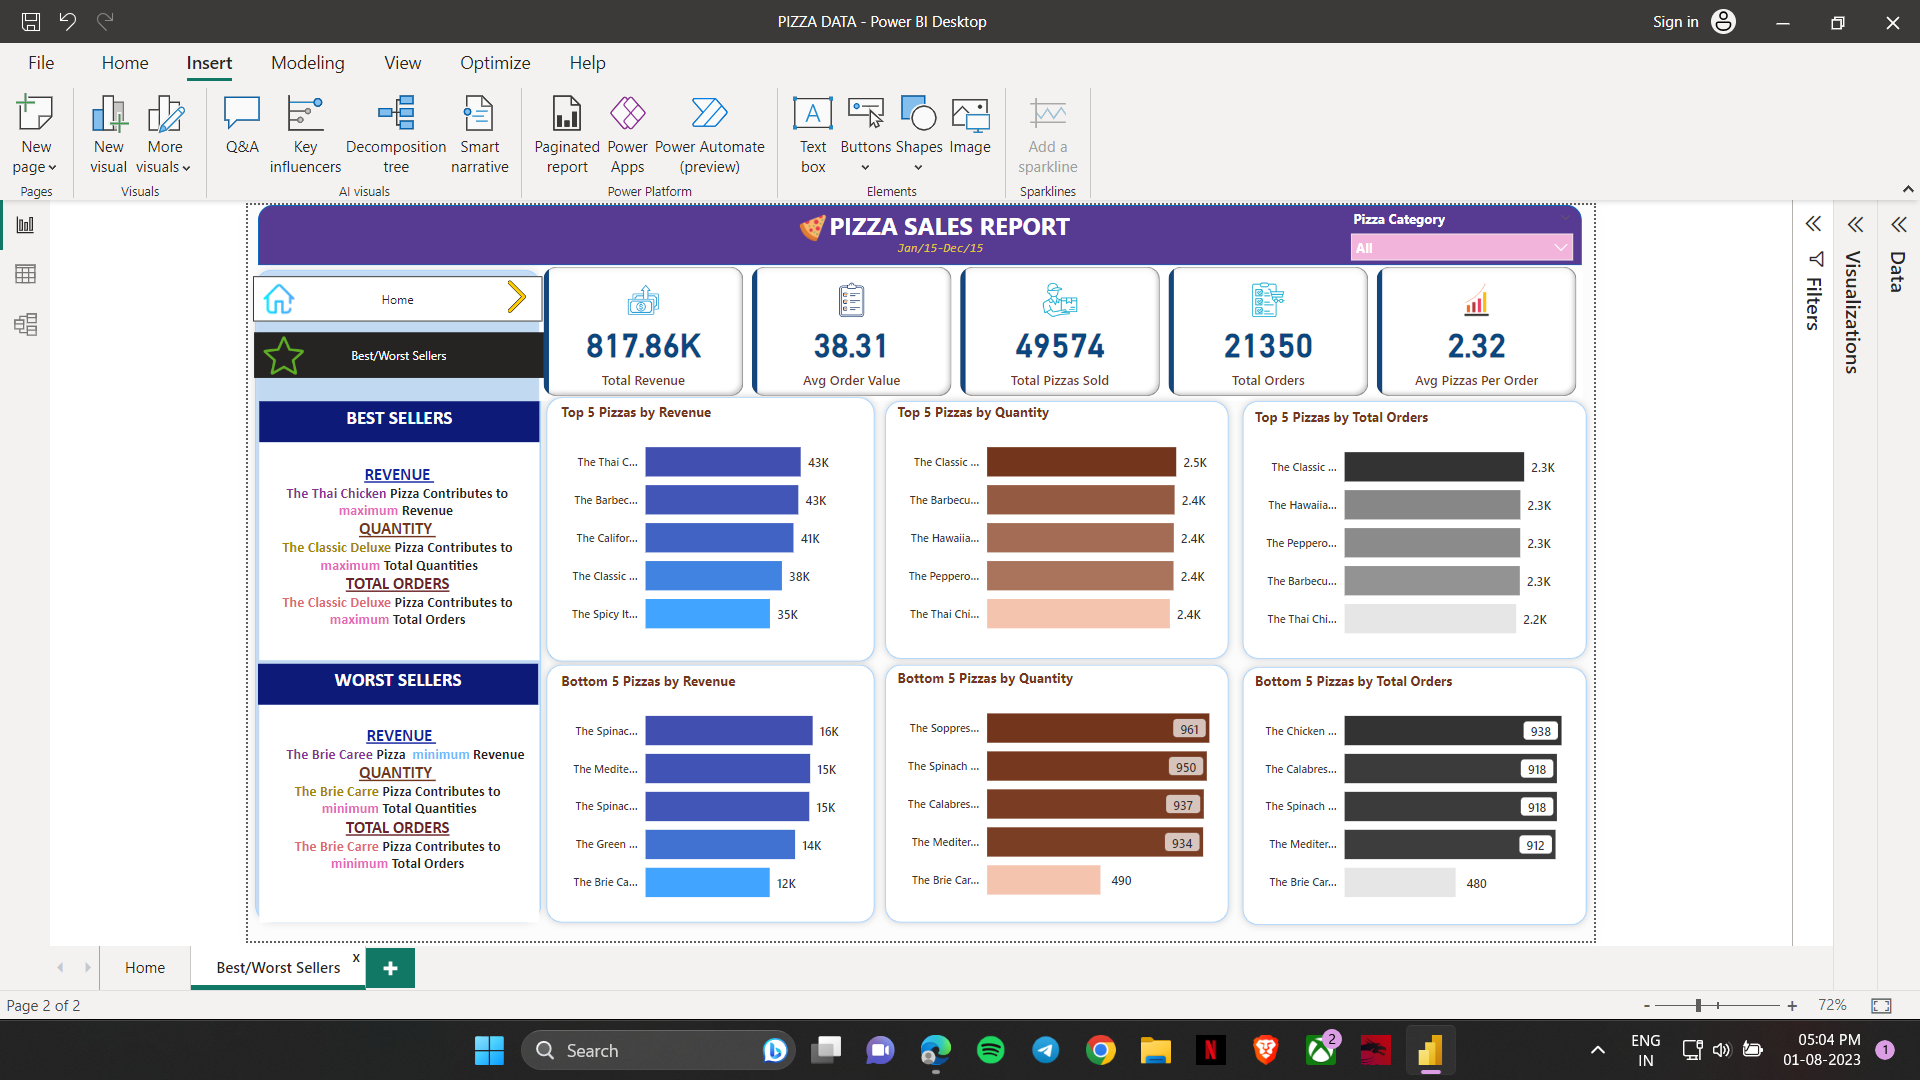

The page's visual inventory and layout, read from the dashboard file:
{"tool":"powerbi","page":{"name":"Best/Worst Sellers","canvas":[1500,820],"ordinal":1},"visuals":[{"type":"shape","box":[0,64,334.1,743.4],"z":0},{"type":"cardVisual","fields":{"Data":["pizza_sales.Total Revenue","pizza_sales.Avg Order Value","pizza_sales.Total Pizzas Sold","pizza_sales.Total Orders","pizza_sales.Avg Pizzas Per Order"]},"box":[324.4,64,1162.5,154.5],"z":1000},{"type":"shape","box":[11.1,0,1474.3,66.8],"z":2000},{"type":"textbox","box":[637.5,0,287.5,50],"z":3000},{"type":"textbox","box":[718.8,33.8,115,30],"z":4000},{"type":"image","box":[593.8,5,71.2,40],"z":5000},{"type":"shape","box":[324.4,206,381.5,310.5],"z":6000},{"type":"textbox","box":[12.5,218.6,311.9,45.9],"z":7000},{"type":"shape","box":[324.4,504,381.5,303.5],"z":8000},{"type":"shape","box":[701.7,504,398.2,303.5],"z":9000},{"type":"shape","box":[1099.8,506.8,399.6,303.5],"z":10000},{"type":"textbox","box":[12.5,264.5,311.9,242.2],"z":11000},{"type":"textbox","box":[11.1,510.9,311.9,45.9],"z":12000},{"type":"textbox","box":[12.5,556.9,311.9,242.2],"z":13000},{"type":"slicer","fields":{"Values":["pizza_sales.pizza_category"]},"box":[1218.2,0,267.3,66.8],"z":14000},{"type":"shape","box":[701.7,210.2,398.2,303.5],"z":15000},{"type":"shape","box":[1099.8,210.2,399.6,303.5],"z":16000},{"type":"barChart","title":"Top 5 Pizzas by Revenue","fields":{"Category":["pizza_sales.pizza_name"],"Y":["pizza_sales.Total Revenue"]},"box":[343.9,220,342.5,274.3],"z":17000},{"type":"barChart","title":"Bottom 5 Pizzas by Revenue","fields":{"Category":["pizza_sales.pizza_name"],"Y":["pizza_sales.Total Revenue"]},"box":[343.9,519.3,342.5,274.3],"z":18000},{"type":"barChart","title":"Top 5 Pizzas by Quantity","fields":{"Category":["pizza_sales.pizza_name"],"Y":["pizza_sales.Total Pizzas Sold"]},"box":[718.4,220,367.5,274.3],"z":19000},{"type":"barChart","title":"Bottom 5 Pizzas by Quantity","fields":{"Category":["pizza_sales.pizza_name"],"Y":["pizza_sales.Total Pizzas Sold"]},"box":[718.4,516.5,367.5,274.3],"z":20000},{"type":"barChart","title":"Top 5 Pizzas by Total Orders","fields":{"Category":["pizza_sales.pizza_name"],"Y":["pizza_sales.Total Orders"]},"box":[1116.5,225.5,367.5,274.3],"z":21000},{"type":"barChart","title":" Bottom 5 Pizzas by Total Orders","fields":{"Category":["pizza_sales.pizza_name"],"Y":["pizza_sales.Total Orders"]},"box":[1116.5,519.3,367.5,274.3],"z":22000},{"type":"pageNavigator","box":[7,142,323,50.1],"z":23000},{"type":"pageNavigator","box":[5.6,79.4,323,50.1],"z":23001},{"type":"image","box":[274.3,79.4,50.1,45.9],"z":23002},{"type":"image","box":[12.5,136.4,54.3,62.6],"z":23003},{"type":"image","box":[12.5,79.4,44.6,50.1],"z":23004}]}

Visuals, with their boxes on the page's 1500x820 design canvas (x1, y1, x2, y2). These are canvas units, not pixel positions in the 1920x1080 screenshot, which may show the page scaled, cropped or inside an application window:
shape: crop(0, 64, 334, 807)
cardVisual - pizza_sales.Total Revenue x pizza_sales.Avg Order Value: crop(324, 64, 1487, 218)
shape: crop(11, 0, 1485, 67)
textbox: crop(638, 0, 925, 50)
textbox: crop(719, 34, 834, 64)
image: crop(594, 5, 665, 45)
shape: crop(324, 206, 706, 516)
textbox: crop(12, 219, 324, 264)
shape: crop(324, 504, 706, 808)
shape: crop(702, 504, 1100, 808)
shape: crop(1100, 507, 1499, 810)
textbox: crop(12, 264, 324, 507)
textbox: crop(11, 511, 323, 557)
textbox: crop(12, 557, 324, 799)
slicer - pizza_sales.pizza_category: crop(1218, 0, 1486, 67)
shape: crop(702, 210, 1100, 514)
shape: crop(1100, 210, 1499, 514)
"Top 5 Pizzas by Revenue" barChart: crop(344, 220, 686, 494)
"Bottom 5 Pizzas by Revenue" barChart: crop(344, 519, 686, 794)
"Top 5 Pizzas by Quantity" barChart: crop(718, 220, 1086, 494)
"Bottom 5 Pizzas by Quantity" barChart: crop(718, 516, 1086, 791)
"Top 5 Pizzas by Total Orders" barChart: crop(1116, 226, 1484, 500)
" Bottom 5 Pizzas by Total Orders" barChart: crop(1116, 519, 1484, 794)
pageNavigator: crop(7, 142, 330, 192)
pageNavigator: crop(6, 79, 329, 130)
image: crop(274, 79, 324, 125)
image: crop(12, 136, 67, 199)
image: crop(12, 79, 57, 130)
